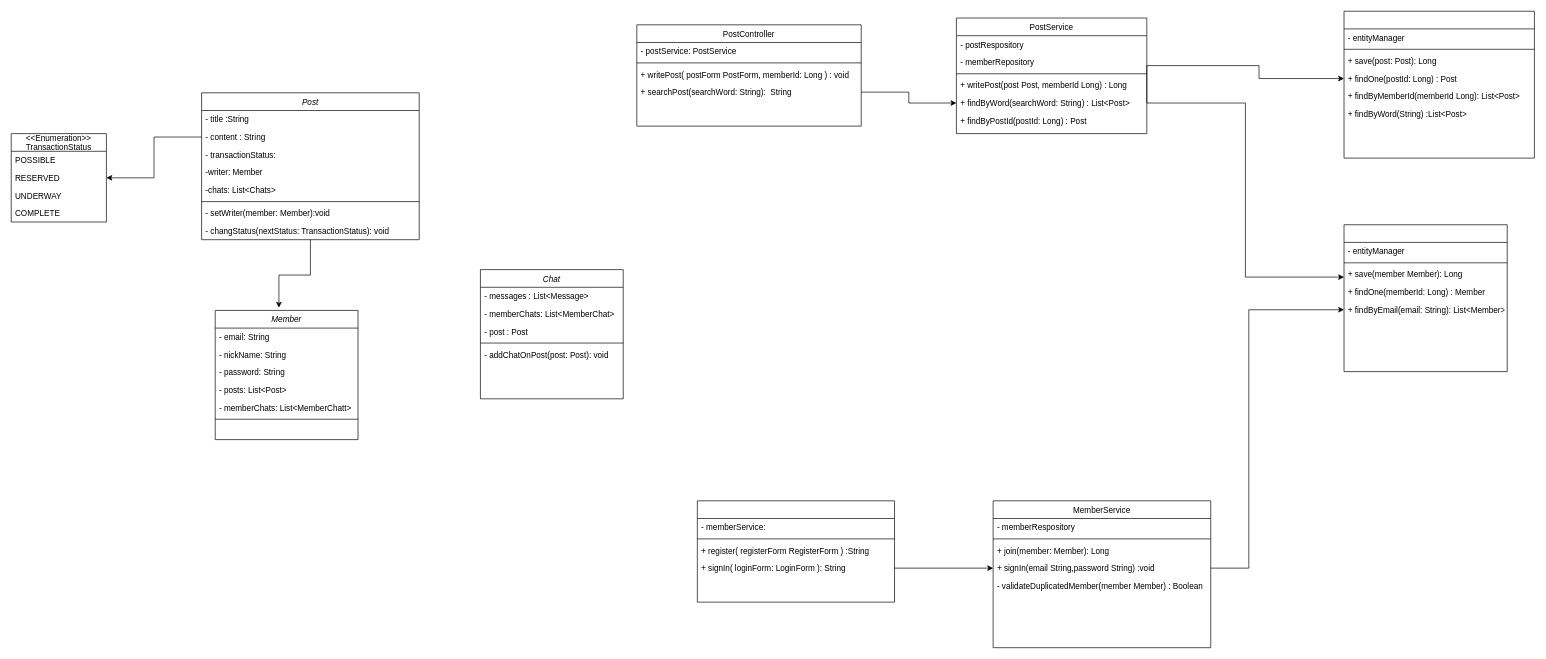
Some shapes in this 1546 by 659 pixel diagram are drawn without their labels. The shapes that lost their labels are listed below. From the top down, each one's box as (x1, y1, x2, y2) in pixels, then its label:
(1343, 11, 1534, 158): PostRepository
(1343, 224, 1507, 372): MemberRepository
(697, 500, 895, 602): MemberController
